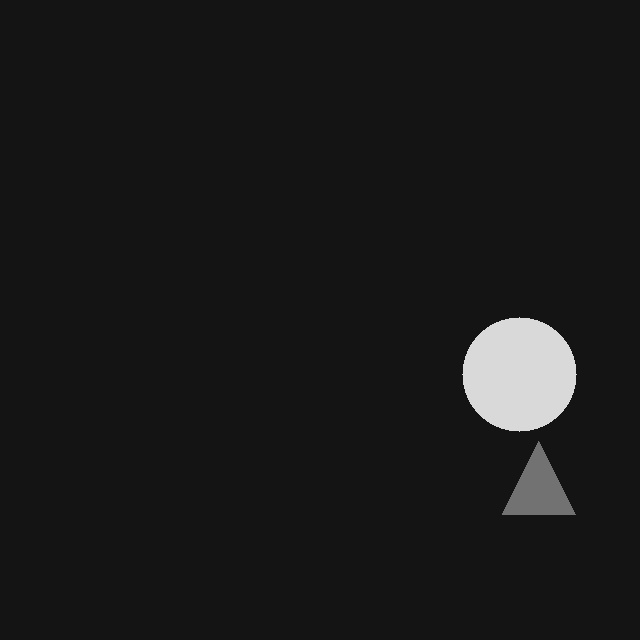circle: (462, 317, 576, 431)
triangle: (502, 441, 575, 514)
